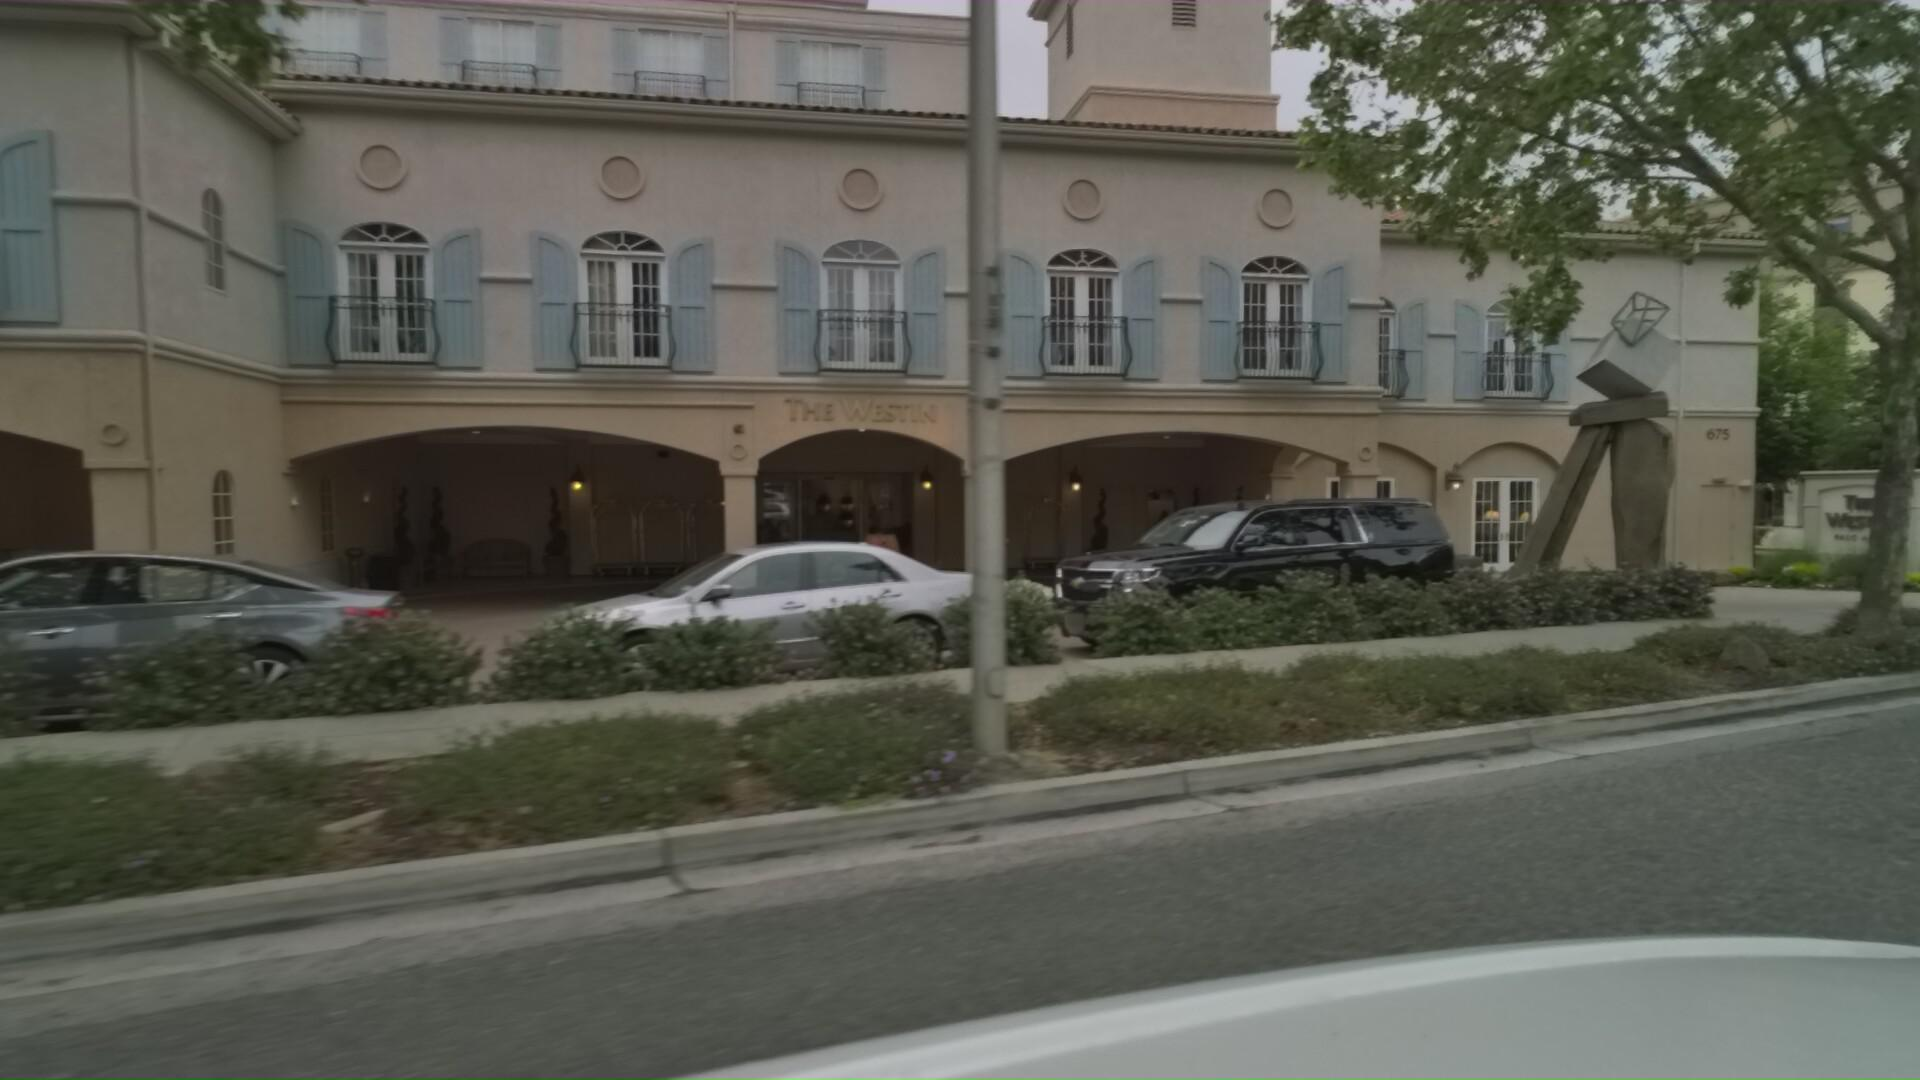car: (0, 524, 488, 737), (583, 522, 1054, 702), (1058, 487, 1498, 657)
